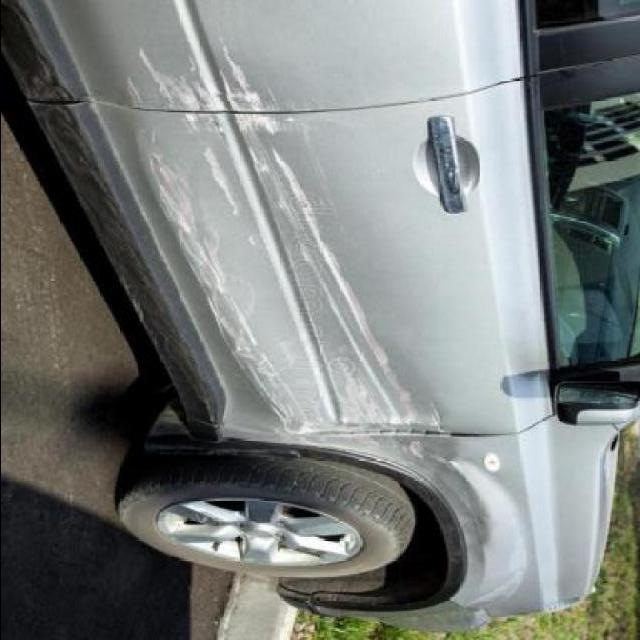doorouter-dent: (90, 111, 538, 438), (27, 0, 527, 241)
fender-dent: (310, 442, 594, 613)
